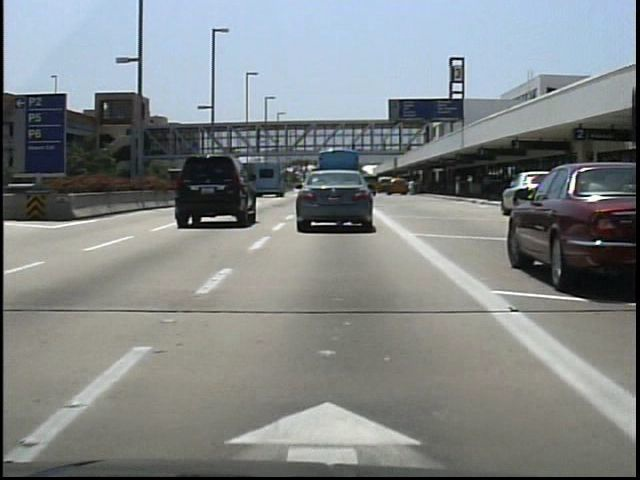person: (403, 176, 418, 201), (380, 136, 394, 158), (347, 136, 360, 156)
